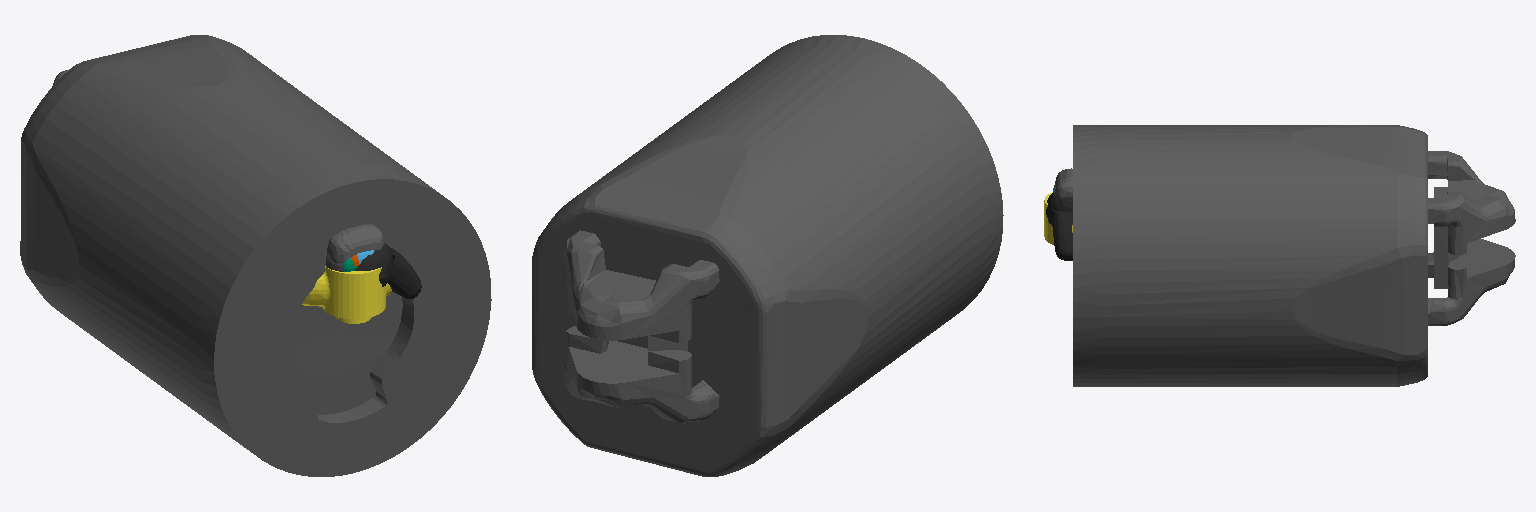
--- Render facts (derived) ---
3 views of the same robot in one strip: view 1: azimuth 30°, elevation 25°; view 2: azimuth 150°, elevation 25°; view 3: azimuth 270°, elevation 25° (orthographic).
Robot: kuka_allegro — 35 links, 34 joints (31 revolute, 3 fixed); root link iiwa7_base_link; default pose: all joints at 0.
Links seen in each view (by area): view 1: forearm, wrist, thdistal, mfmiddle; view 2: forearm; view 3: forearm, thdistal.
Boxes of the visible links, x1,y1,x2,y2 form: forearm: (20,35,491,476); wrist: (302,266,392,323); thdistal: (388,248,421,298); mfmiddle: (344,224,376,254); forearm: (532,35,1003,476); forearm: (1073,125,1515,386); thdistal: (1052,209,1072,260).
Bounding box of the posed robot: 1.35 × 2.42 × 1.35 m (x, y, z).
22 mesh visuals loaded from 18 distinct referenced files (9 OBJ); not drawn: 9 (reference not matched to a file when rendering).

robot.urdf — kuka_allegro:
<?xml version="1.0" ?>
<!-- This file was autogenerated but we have modified quite a bit
Authors: Karl, Ankur

Karl did the dynamics compensation and obtained the following values for the index finger

Noise: 0.111576
Masses: 0.005, 0.125164, 0.131691, 0.0211922,
Rotor Inertia: 0.00386572, 0.00346965, 0.00433775, 0.00366413,
Viscous Friction: 0.0414019, 0.00587541, 0.010638, 0.0226948,
Coulomb Friction: 0.0523963, 0.0150275, 0.00616359, 0.0227036,
Mass Inertia:
5.1458e-05, 5.1458e-05, 6.125e-05, 0, 0, 0,
6.39979e-06, 8.88687e-05, 9.13751e-05, -3.26531e-06, 1.23963e-05, 2.07384e-05,
7.04217e-05, 3.95744e-05, 6.61125e-05, -9.64342e-05, 5.8796e-05, -3.62996e-05,
2.93743e-05, 7.21391e-05, 7.59731e-05, -3.51896e-05, -6.31225e-05, -9.25392e-07,

Center of Mass:
0, 0, 0,
0.027, 0, 0,
0.038, 0, 0,
0.029, 0, 0,

-->

<robot name="kuka_allegro" xmlns:xacro="http://www.ros.org/wiki/xacro">
  <material name="Black">
    <color rgba="0.0 0.0 0.0 1.0"/>
  </material>
  <material name="Blue">
    <color rgba="0.0 0.0 0.8 1.0"/>
  </material>
  <material name="Green">
    <color rgba="0.0 0.8 0.0 1.0"/>
  </material>
  <material name="Grey">
    <color rgba="0.4 0.4 0.4 1.0"/>
  </material>
  <material name="Orange">
    <color rgba="1.0 0.423529411765 0.0392156862745 1.0"/>
  </material>
  <material name="Brown">
    <color rgba="0.870588235294 0.811764705882 0.764705882353 1.0"/>
  </material>
  <material name="Red">
    <color rgba="0.8 0.0 0.0 1.0"/>
  </material>
  <material name="White">
    <color rgba="1.0 1.0 1.0 1.0"/>
  </material>
  <link name="iiwa7_base_link"/>
  <!--joint between {parent} and link_0-->
  <joint name="iiwa7_base_link_iiwa7_joint" type="fixed">
    <origin rpy="0 0 0" xyz="0 0 0"/>
    <parent link="iiwa7_base_link"/>
    <child link="iiwa7_link_0"/>
  </joint>
  <link name="iiwa7_link_0">
    <inertial>
      <origin rpy="0 0 0" xyz="-0.1 0 0.07"/>
      <mass value="5"/>
      <inertia ixx="0.05" ixy="0" ixz="0" iyy="0.06" iyz="0" izz="0.03"/>
    </inertial>
    <visual>
      <origin rpy="0 0 0" xyz="0 0 0"/>
      <geometry>
        <mesh filename="kuka_allegro_description/meshes/iiwa7/visual/link_0.obj"/>
      </geometry>
      <material name="Grey"/>
    </visual>
    <collision>
      <origin rpy="0 0 0" xyz="0 0 0"/>
      <geometry>
        <mesh filename="kuka_allegro_description/meshes/iiwa7/collision/link_0.obj"/>
      </geometry>
      <material name="Grey"/>
    </collision>
    <self_collision_checking>
      <origin rpy="0 0 0" xyz="0 0 0"/>
      <geometry>
        <capsule length="0.25" radius="0.15"/>
      </geometry>
    </self_collision_checking>
  </link>
  <!-- joint between link_0 and link_1 -->
  <joint name="iiwa7_joint_1" type="revolute">
    <parent link="iiwa7_link_0"/>
    <child link="iiwa7_link_1"/>
    <origin rpy="0 0 0" xyz="0 0 0.15"/>
    <axis xyz="0 0 1"/>
    <limit effort="300" lower="-2.96705972839" upper="2.96705972839" velocity="10"/>
    <safety_controller k_position="100" k_velocity="2" soft_lower_limit="-2.93215314335" soft_upper_limit="2.93215314335"/>
    <dynamics damping="5.5" friction="0.025"/>
  </joint>
  <link name="iiwa7_link_1">
    <inertial>
      <origin rpy="0 0 0" xyz="0 -0.03 0.12"/>
      <mass value="3.4525"/>
      <inertia ixx="0.02183" ixy="0" ixz="0" iyy="0.007703" iyz="-0.003887" izz="0.02083"/>
    </inertial>
    <visual>
      <origin rpy="0 0 0" xyz="0 0 0.0075"/>
      <geometry>
        <mesh filename="kuka_allegro_description/meshes/iiwa7/visual/link_1.obj"/>
      </geometry>
      <material name="Orange"/>
    </visual>
    <collision>
      <origin rpy="0 0 0" xyz="0 0 0.0075"/>
      <geometry>
        <mesh filename="kuka_allegro_description/meshes/iiwa7/collision/link_1.obj"/>
      </geometry>
      <material name="Orange"/>
    </collision>
  </link>
  <joint name="iiwa7_joint_2" type="revolute">
    <parent link="iiwa7_link_1"/>
    <child link="iiwa7_link_2"/>
    <origin rpy="1.57079632679   0 3.14159265359" xyz="0 0 0.19"/>
    <axis xyz="0 0 1"/>
    <limit effort="300" lower="-2.09439510239" upper="2.09439510239" velocity="10"/>
    <safety_controller k_position="100" k_velocity="2" soft_lower_limit="-2.05948851735" soft_upper_limit="2.05948851735"/>
    <dynamics damping="5.55" friction="0.025"/>
  </joint>
  <link name="iiwa7_link_2">
    <inertial>
      <origin rpy="0 0 0" xyz="0.0003 0.059 0.042"/>
      <mass value="3.4821"/>
      <inertia ixx="0.02076" ixy="0" ixz="-0.003626" iyy="0.02179" iyz="0" izz="0.00779"/>
    </inertial>
    <visual>
      <origin rpy="0 0 0" xyz="0 0 0"/>
      <geometry>
        <mesh filename="kuka_allegro_description/meshes/iiwa7/visual/link_2.obj"/>
      </geometry>
      <material name="Orange"/>
    </visual>
    <collision>
      <origin rpy="0 0 0" xyz="0 0 0"/>
      <geometry>
        <mesh filename="kuka_allegro_description/meshes/iiwa7/collision/link_2.obj"/>
      </geometry>
      <material name="Orange"/>
    </collision>
  </link>
  <joint name="iiwa7_joint_3" type="revolute">
    <parent link="iiwa7_link_2"/>
    <child link="iiwa7_link_3"/>
    <origin rpy="1.57079632679 0 3.14159265359" xyz="0 0.21 0"/>
    <axis xyz="0 0 1"/>
    <limit effort="300" lower="-2.96705972839" upper="2.96705972839" velocity="10"/>
    <safety_controller k_position="100" k_velocity="2" soft_lower_limit="-2.93215314335" soft_upper_limit="2.93215314335"/>
    <dynamics damping="5.5" friction="0.025"/>
  </joint>
  <link name="iiwa7_link_3">
    <inertial>
      <origin rpy="0 0 0" xyz="0 0.03 0.13"/>
      <mass value="4.05623"/>
      <inertia ixx="0.03204" ixy="0" ixz="0" iyy="0.00972" iyz="0.006227" izz="0.03042"/>
    </inertial>
    <visual>
      <origin rpy="0 0 0" xyz="0 0 -0.026"/>
      <geometry>
        <mesh filename="kuka_allegro_description/meshes/iiwa7/visual/link_3.obj"/>
      </geometry>
      <material name="Orange"/>
    </visual>
    <collision>
      <origin rpy="0 0 0" xyz="0 0 -0.026"/>
      <geometry>
        <mesh filename="kuka_allegro_description/meshes/iiwa7/collision/link_3.obj"/>
      </geometry>
      <material name="Orange"/>
    </collision>
  </link>
  <joint name="iiwa7_joint_4" type="revolute">
    <parent link="iiwa7_link_3"/>
    <child link="iiwa7_link_4"/>
    <origin rpy="1.57079632679 0 0" xyz="0 0 0.19"/>
    <axis xyz="0 0 1"/>
    <limit effort="300" lower="-2.09439510239" upper="2.09439510239" velocity="10"/>
    <safety_controller k_position="100" k_velocity="2" soft_lower_limit="-2.05948851735" soft_upper_limit="2.05948851735"/>
    <dynamics damping="5.5" friction="0.025"/>
  </joint>
  <link name="iiwa7_link_4">
    <inertial>
      <origin rpy="0 0 0" xyz="0 0.067 0.034"/>
      <mass value="3.4822"/>
      <inertia ixx="0.02178" ixy="0" ixz="0" iyy="0.02075" iyz="-0.003625" izz="0.007785"/>
    </inertial>
    <visual>
      <origin rpy="0 0 0" xyz="0 0 0"/>
      <geometry>
        <mesh filename="kuka_allegro_description/meshes/iiwa7/visual/link_4.obj"/>
      </geometry>
      <material name="Orange"/>
    </visual>
    <collision>
      <origin rpy="0 0 0" xyz="0 0 0"/>
      <geometry>
        <mesh filename="kuka_allegro_description/meshes/iiwa7/collision/link_4.obj"/>
      </geometry>
      <material name="Orange"/>
    </collision>
  </link>
  <joint name="iiwa7_joint_5" type="revolute">
    <parent link="iiwa7_link_4"/>
    <child link="iiwa7_link_5"/>
    <origin rpy="-1.57079632679 3.14159265359 0" xyz="0 0.21 0"/>
    <axis xyz="0 0 1"/>
    <limit effort="300" lower="-2.96705972839" upper="2.96705972839" velocity="10"/>
    <safety_controller k_position="100" k_velocity="2" soft_lower_limit="-2.93215314335" soft_upper_limit="2.93215314335"/>
    <dynamics damping="5.5" friction="0.025"/>
  </joint>
  <link name="iiwa7_link_5">
    <inertial>
      <origin rpy="0 0 0" xyz="0.0001 0.021 0.076"/>
      <mass value="2.1633"/>
      <inertia ixx="0.01287" ixy="0" ixz="0" iyy="0.005708" iyz="-0.003946" izz="0.01112"/>
    </inertial>
    <visual>
      <origin rpy="0 0 0" xyz="0 0 -0.026"/>
      <geometry>
        <mesh filename="kuka_allegro_description/meshes/iiwa7/visual/link_5.obj"/>
      </geometry>
      <material name="Orange"/>
    </visual>
    <collision>
      <origin rpy="0 0 0" xyz="0 0 -0.026"/>
      <geometry>
        <mesh filename="kuka_allegro_description/meshes/iiwa7/collision/link_5.obj"/>
      </geometry>
      <material name="Orange"/>
    </collision>
  </link>
  <joint name="iiwa7_joint_6" type="revolute">
    <parent link="iiwa7_link_5"/>
    <child link="iiwa7_link_6"/>
    <origin rpy="1.57079632679 0 0" xyz="0 0.06070 0.19"/>
    <axis xyz="0 0 1"/>
    <limit effort="300" lower="-2.09439510239" upper="2.09439510239" velocity="10"/>
    <safety_controller k_position="100" k_velocity="2" soft_lower_limit="-2.05948851735" soft_upper_limit="2.05948851735"/>
    <dynamics damping="0.5" friction="0.025"/>
  </joint>
  <link name="iiwa7_link_6">
    <inertial>
      <origin rpy="0 0 0" xyz="0 0.0006 0.0004"/>
      <mass value="2.3466"/>
      <inertia ixx="0.006509" ixy="0" ixz="0" iyy="0.006259" iyz="0.00031891" izz="0.004527"/>
    </inertial>
    <visual>
      <origin rpy="0 0 0" xyz="0 0 0"/>
      <geometry>
        <mesh filename="kuka_allegro_description/meshes/iiwa7/visual/link_6.obj"/>
      </geometry>
      <material name="Orange"/>
    </visual>
    <collision>
      <origin rpy="0 0 0" xyz="0 0 0"/>
      <geometry>
        <mesh filename="kuka_allegro_description/meshes/iiwa7/collision/link_6.obj"/>
      </geometry>
      <material name="Orange"/>
    </collision>
  </link>
  <joint name="iiwa7_joint_7" type="revolute">
    <parent link="iiwa7_link_6"/>
    <child link="iiwa7_link_7"/>
    <origin rpy="-1.57079632679 3.14159265359 0" xyz="0 0.081 0.06070"/>
    <axis xyz="0 0 1"/>
    <limit effort="300" lower="-3.05432619099" upper="3.05432619099" velocity="10"/>
    <safety_controller k_position="100" k_velocity="2" soft_lower_limit="-3.01941960595" soft_upper_limit="3.01941960595"/>
    <dynamics damping="5.5" friction="0.025"/>
  </joint>
  <link name="iiwa7_link_7">
    <inertial>
      <origin rpy="0 0 0" xyz="0 0 0.02"/>
      <mass value="3.129"/>
      <inertia ixx="0.01464" ixy="0.0005912" ixz="0" iyy="0.01465" iyz="0" izz="0.002872"/>
    </inertial>
    <visual>
      <origin rpy="0 0 0" xyz="0 0 -0.0005"/>
      <geometry>
        <mesh filename="kuka_allegro_description/meshes/iiwa7/visual/link_7.obj"/>
      </geometry>
      <material name="Grey"/>
    </visual>
    <collision>
      <origin rpy="0 0 0" xyz="0 0 -0.0005"/>
      <geometry>
        <mesh filename="kuka_allegro_description/meshes/iiwa7/collision/link_7.obj"/>
      </geometry>
      <material name="Grey"/>
    </collision>
  </link>
  <joint name="iiwa7_joint_ee" type="fixed">
    <parent link="iiwa7_link_7"/>
    <child link="iiwa7_link_ee"/>
    <origin rpy="0 0 0" xyz="0 0 0.071"/>
    <dynamics damping="5.5" friction="0.025"/>
  </joint>
  <link name="iiwa7_link_ee">
    <inertial>
      <origin rpy="0 0 0" xyz="0 0 0.0"/>
      <mass value="0.1"/>
      <inertia ixx="1e-3" ixy="0.0" ixz="0" iyy="1e-3" iyz="0" izz="1e-3"/>
    </inertial>
  </link>
  
  <!-- Load Gazebo lib and set the robot namespace -->
  <!-- <gazebo>
      <plugin name="gazebo_ros_control" filename="libgazebo_ros_control.so">
        <robotNamespace>/${robot_name}</robotNamespace>
      </plugin>
    </gazebo> -->
  <!-- Link0 -->
  <gazebo reference="iiwa7_link_0">
    <material>Gazebo/Grey</material>
    <mu1>0.2</mu1>
    <mu2>0.2</mu2>
  </gazebo>
  <!-- Link1 -->
  <gazebo reference="iiwa7_link_1">
    <material>Gazebo/Orange</material>
    <mu1>0.2</mu1>
    <mu2>0.2</mu2>
  </gazebo>
  <!-- Link2 -->
  <gazebo reference="iiwa7_link_2">
    <material>Gazebo/Orange</material>
    <mu1>0.2</mu1>
    <mu2>0.2</mu2>
  </gazebo>
  <!-- Link3 -->
  <gazebo reference="iiwa7_link_3">
    <material>Gazebo/Orange</material>
    <mu1>0.2</mu1>
    <mu2>0.2</mu2>
  </gazebo>
  <!-- Link4 -->
  <gazebo reference="iiwa7_link_4">
    <material>Gazebo/Orange</material>
    <mu1>0.2</mu1>
    <mu2>0.2</mu2>
  </gazebo>
  <!-- Link5 -->
  <gazebo reference="iiwa7_link_5">
    <material>Gazebo/Orange</material>
    <mu1>0.2</mu1>
    <mu2>0.2</mu2>
  </gazebo>
  <!-- Link6 -->
  <gazebo reference="iiwa7_link_6">
    <material>Gazebo/Orange</material>
    <mu1>0.2</mu1>
    <mu2>0.2</mu2>
  </gazebo>
  <!-- Link7 -->
  <gazebo reference="iiwa7_link_7">
    <material>Gazebo/Grey</material>
    <mu1>0.2</mu1>
    <mu2>0.2</mu2>
  </gazebo>
  <transmission name="iiwa7_tran_1">
    <robotNamespace>/iiwa7</robotNamespace>
    <type>transmission_interface/SimpleTransmission</type>
    <joint name="iiwa7_joint_1">
      <hardwareInterface>PositionJointInterface</hardwareInterface>
    </joint>
    <actuator name="iiwa7_motor_1">
      <hardwareInterface>PositionJointInterface</hardwareInterface>
      <mechanicalReduction>1</mechanicalReduction>
    </actuator>
  </transmission>
  <transmission name="iiwa7_tran_2">
    <robotNamespace>/iiwa7</robotNamespace>
    <type>transmission_interface/SimpleTransmission</type>
    <joint name="iiwa7_joint_2">
      <hardwareInterface>PositionJointInterface</hardwareInterface>
    </joint>
    <actuator name="iiwa7_motor_2">
      <hardwareInterface>PositionJointInterface</hardwareInterface>
      <mechanicalReduction>1</mechanicalReduction>
    </actuator>
  </transmission>
  <transmission name="iiwa7_tran_3">
    <robotNamespace>/iiwa7</robotNamespace>
    <type>transmission_interface/SimpleTransmission</type>
    <joint name="iiwa7_joint_3">
      <hardwareInterface>PositionJointInterface</hardwareInterface>
    </joint>
    <actuator name="iiwa7_motor_3">
      <hardwareInterface>PositionJointInterface</hardwareInterface>
      <mechanicalReduction>1</mechanicalReduction>
    </actuator>
  </transmission>
  <transmission name="iiwa7_tran_4">
    <robotNamespace>/iiwa7</robotNamespace>
    <type>transmission_interface/SimpleTransmission</type>
    <joint name="iiwa7_joint_4">
      <hardwareInterface>PositionJointInterface</hardwareInterface>
    </joint>
    <actuator name="iiwa7_motor_4">
      <hardwareInterface>PositionJointInterface</hardwareInterface>
      <mechanicalReduction>1</mechanicalReduction>
    </actuator>
  </transmission>
  <transmission name="iiwa7_tran_5">
    <robotNamespace>/iiwa7</robotNamespace>
    <type>transmission_interface/SimpleTransmission</type>
    <joint name="iiwa7_joint_5">
      <hardwareInterface>PositionJointInterface</hardwareInterface>
    </joint>
    <actuator name="iiwa7_motor_5">
      <hardwareInterface>PositionJointInterface</hardwareInterface>
      <mechanicalReduction>1</mechanicalReduction>
    </actuator>
  </transmission>
  <transmission name="iiwa7_tran_6">
    <robotNamespace>/iiwa7</robotNamespace>
    <type>transmission_interface/SimpleTransmission</type>
    <joint name="iiwa7_joint_6">
      <hardwareInterface>PositionJointInterface</hardwareInterface>
    </joint>
    <actuator name="iiwa7_motor_6">
      <hardwareInterface>PositionJointInterface</hardwareInterface>
      <mechanicalReduction>1</mechanicalReduction>
    </actuator>
  </transmission>
  <transmission name="iiwa7_tran_7">
    <robotNamespace>/iiwa7</robotNamespace>
    <type>transmission_interface/SimpleTransmission</type>
    <joint name="iiwa7_joint_7">
      <hardwareInterface>PositionJointInterface</hardwareInterface>
    </joint>
    <actuator name="iiwa7_motor_7">
      <hardwareInterface>PositionJointInterface</hardwareInterface>
      <mechanicalReduction>1</mechanicalReduction>
    </actuator>
  </transmission>
  <!-- ======================== BASE PARAMS ========================= -->
  <!-- ======================== FINGER PARAMS ======================== -->
  <!-- full height from joint to tip. when used,
       the radius of the finger tip sphere will be subtracted
       and one fixed link will be added for the tip. -->
  <!-- ========================= THUMB PARAMS ========================= -->
  <!-- ========================= LIMITS ========================= -->
  <!-- ============================================================================= -->
  <!-- BASE -->

  <link name="forearm">
    <inertial>
      <origin rpy="0 0 0" xyz="0 0 0.09" />
      <mass value="3.0" />
      <inertia ixx="1.0" ixy="0.0" ixz="0.0" iyy="1.0" iyz="0.0" izz="1.0" />
    </inertial>
    <visual>
      <origin rpy="0 0 0" xyz="0 0 0" />
      <geometry name="shadow_forearm_geom">
        <mesh filename="meshes/forearm.obj"/>
      </geometry>
      <material name="Grey" />
    </visual>
    <collision>
      <origin rpy="0 0 0" xyz="0 0 0.09" />
      <geometry name="shadow_forearm_collision">
        <cylinder length="0.180" radius="0.06" />
      </geometry>
    </collision>
  </link>
  <link name="wrist">
    <inertial>
      <origin rpy="0 0 0" xyz="0 0.0 0.0" />

      <mass value="0.1" />
      <inertia ixx="0.120" ixy="0.0" ixz="0.0" iyy="0.148" iyz="0.0" izz="0.0438" />
    </inertial>
    <visual>
      <origin rpy="0 0 0" xyz="0 0 0" />
      <geometry name="wrist_visual">
        <mesh filename="meshes/wrist.obj"/>
      </geometry>
      <material name="LightGrey" />
    </visual>
    <collision>
      <origin rpy="0 0 0" xyz="0 0 0" />
      <geometry name="wrist_collision_geom">
        <box size="0.02 0.02 0.02" />
      </geometry>
    </collision>
  </link>
  <joint name="WRJ2" type="revolute">
    <parent link="forearm" />
    <child link="wrist" />

    <origin rpy="0 0 0" xyz="0 -0.010 0.213" />
    <axis xyz="0 1 0" />
    <limit effort="5" lower="-0.52359877559829882" upper="0.17453292519943295" velocity="1.0" />
    <dynamics damping="100.5" />
  </joint>
  <link name="palm">
    <inertial>
      <origin rpy="0 0 0" xyz="0 0 0.035" />
      <mass value="0.3" />
      <inertia ixx="0.5" ixy="0.0" ixz="0.0" iyy="0.5" iyz="0.0" izz="0.3" />
    </inertial>
    <visual>
      <origin rpy="0 0 0" xyz="0 0 0" />
      <geometry name="palm_visual">
        <mesh filename="meshes/palm.obj"/>
      </geometry>
      <material name="Grey" />
    </visual>
    <collision>
      <origin rpy="0 0 0" xyz="0.005 0 0.035" />
      <geometry name="palm_collision_geom">
        <box size="0.05 0.02 0.07" />
      </geometry>
    </collision>
  </link>
  <joint name="WRJ1" type="revolute">
    <parent link="wrist" />
    <child link="palm" />
    <origin rpy="0 0 0" xyz="0 0 0.034" />
    <axis xyz="1 0 0" />
    <limit effort="5" lower="-0.78539816339744828" upper="0.6108652381980153" velocity="1.0" />
    <dynamics damping="100.5" />
  </joint>
  <link name="ffknuckle">
    <inertial>
      <origin rpy="0 0 0" xyz="0 0 0" />

      <mass value="0.008" />
      <inertia ixx="0.0" ixy="0.0" ixz="0.0" iyy="0.1" iyz="0.0" izz="0.0" />
    </inertial>
    <visual>
      <origin rpy="0 0 0" xyz="0 0 0.0005" />
      <geometry name="knuckle_visual">
        <mesh filename="meshes/knuckle.obj"/>
      </geometry>
      <material name="LightGrey" />
    </visual>
    <collision>
      <origin rpy="0 0 0" xyz="0 0 0" />
      <geometry name="knuckle_collision_geom">
        <box size="0.005 0.005 0.005" />
      </geometry>
    </collision>
  </link>
  <joint name="FFJ4" type="revolute">
    <parent link="palm" />
    <child link="ffknuckle" />

    <origin rpy="0 0 0" xyz="0.033 0 0.095" />
    <axis xyz="0 -1 0" />
    <limit effort="100" lower="-0.43633231299858238" upper="0.43633231299858238" velocity="1.0" />
    <dynamics damping="50.5" />
  </joint>
  <link name="ffproximal">
    <inertial>
      <mass value="0.014" />
      <origin xyz="0 0 0.0225" />
      <inertia ixx="0.1" ixy="0.0" ixz="0.0" iyy="0.1" iyz="0.0" izz="0.0" />
    </inertial>
    <visual>
      <origin rpy="0 0 0" xyz="0 0 0" />
      <geometry name="proximal_visual">
        <mesh filename="meshes/F3.obj"/>
      </geometry>
      <material name="Grey" />
    </visual>
    <collision>
      <origin rpy="0 0 0 " xyz="0 0 0.025" />
      <geometry name="proximal_collision_geom">
        <box size="0.008 0.008 0.04" />
      </geometry>
    </collision>
  </link>
  <joint name="FFJ3" type="revolute">
    <parent link="ffknuckle" />
    <child link="ffproximal" />
    <origin rpy="0 0 0" xyz="0 0 0" />
    <axis xyz="1 0 0" />
    <limit effort="100" lower="0" upper="1.57079632679" velocity="1.0" />
    <dynamics damping="50.5" />
  </joint>
  <link name="ffmiddle">
    <inertial>
      <origin rpy="0 0 0" xyz="0 0 0.0125" />
      <mass value="0.012" />
      <inertia ixx="0.1" ixy="0.0" ixz="0.0" iyy="0.1" iyz="0.0" izz="0.0" />
    </inertial>
    <visual>
      <origin rpy="0 0 0" xyz="0 0 0" />
      <geometry name="middle_visual">
        <mesh filename="meshes/F2.obj"/>
      </geometry>
      <material name="Grey" />
    </visual>
    <collision>
      <origin rpy="0 0 0" xyz="0 0 0.0125" />
      <geometry name="middle_collision_geom">
        <box size="0.008 0.008 0.015" />
      </geometry>
    </collision>
  </link>
  <joint name="FFJ2" type="revolute">
    <parent link="ffproximal" />
    <child link="ffmiddle" />
    <origin rpy="0 0 0" xyz="0 0 0.045" />
    <axis xyz="1 0 0" />
    <limit effort="100" lower="0" upper="1.57079632679" velocity="1.0" />
    <dynamics damping="50.5" />
  </joint>
  <link name="ffdistal">
    <inertial>
      <mass value="0.010" />
      <origin xyz="0 0 0.013" />
      <inertia ixx="0.1" ixy="0.0" ixz="0.0" iyy="0.1" iyz="0.0" izz="0.0" />
    </inertial>
    <visual>
      <origin rpy="0 0 0" xyz="0 0 0" />
      <geometry name="distal_visual">
        <mesh filename="meshes/F1.obj"/>
      </geometry>
      <material name="Grey" />
    </visual>

    <collision>
      <origin rpy="0 0 0" xyz="0 0 0" />
      <geometry name="distal_collision_geom">
        <mesh filename="meshes/F1.obj"/>
      </geometry>
    </collision>
  </link>
  <joint name="FFJ1" type="revolute">
    <parent link="ffmiddle" />
    <child link="ffdistal" />
    <origin rpy="0 0 0" xyz="0 0 0.025" />
    <axis xyz="1 0 0" />
    <limit effort="100" lower="0" upper="1.57079632679" velocity="1.0" />
    <dynamics damping="50.5" />
  </joint>
  <link name="mfknuckle">
    <inertial>
      <origin rpy="0 0 0" xyz="0 0 0" />

      <mass value="0.008" />
      <inertia ixx="0.0" ixy="0.0" ixz="0.0" iyy="0.1" iyz="0.0" izz="0.0" />
    </inertial>
    <visual>
      <origin rpy="0 0 0" xyz="0 0 0.0005" />
      <geometry name="knuckle_visual">
        <mesh filename="meshes/knuckle.obj"/>
      </geometry>
      <material name="LightGrey" />
    </visual>
    <collision>
      <origin rpy="0 0 0" xyz="0 0 0" />
      <geometry name="knuckle_collision_geom">
        <box size="0.005 0.005 0.005" />
      </geometry>
    </collision>
  </link>
  <joint name="MFJ4" type="revolute">
    <parent link="palm" />
    <child link="mfknuckle" />

    <origin rpy="0 0 0" xyz="0.011 0 0.099" />
    <axis xyz="0 -1 0" />
    <limit effort="100" lower="-0.43633231299858238" upper="0.43633231299858238" velocity="1.0" />
    <dynamics damping="50.5" />
  </joint>
  <link name="mfproximal">
    <inertial>
      <mass value="0.014" />
      <origin xyz="0 0 0.0225" />
      <inertia ixx="0.1" ixy="0.0" ixz="0.0" iyy="0.1" iyz="0.0" izz="0.0" />
    </inertial>
    <visual>
      <origin rpy="0 0 0" xyz="0 0 0" />
      <geometry name="proximal_visual">
        <mesh filename="meshes/F3.obj"/>
      </geometry>
      <material name="Grey" />
    </visual>
    <collision>
      <origin rpy="0 0 0 " xyz="0 0 0.025" />
      <geometry name="proximal_collision_geom">
        <box size="0.008 0.008 0.04" />
      </geometry>
    </collision>
  </link>
  <joint name="MFJ3" type="revolute">
    <parent link="mfknuckle" />
    <child link="mfproximal" />
    <origin rpy="0 0 0" xyz="0 0 0" />
    <axis xyz="1 0 0" />
    <limit effort="100" lower="0" upper="1.57079632679" velocity="1.0" />
    <dynamics damping="50.5" />
  </joint>
  <link name="mfmiddle">
    <inertial>
      <origin rpy="0 0 0" xyz="0 0 0.0125" />
      <mass value="0.012" />
      <inertia ixx="0.1" ixy="0.0" ixz="0.0" iyy="0.1" iyz="0.0" izz="0.0" />
    </inertial>
    <visual>
      <origin rpy="0 0 0" xyz="0 0 0" />
      <geometry name="middle_visual">
        <mesh filename="meshes/F2.obj"/>
      </geometry>
      <material name="Grey" />
    </visual>
    <collision>
      <origin rpy="0 0 0" xyz="0 0 0.0125" />
      <geometry name="middle_collision_geom">
        <box size="0.008 0.008 0.015" />
      </geometry>
    </collision>
  </link>
  <joint name="MFJ2" type="revolute">
    <parent link="mfproximal" />
    <child link="mfmiddle" />
    <origin rpy="0 0 0" xyz="0 0 0.045" />
    <axis xyz="1 0 0" />
    <limit effort="100" lower="0" upper="1.57079632679" velocity="1.0" />
    <dynamics damping="50.5" />
  </joint>
  <link name="mfdistal">
    <inertial>
      <mass value="0.010" />
      <origin xyz="0 0 0.013" />
      <inertia ixx="0.1" ixy="0.0" ixz="0.0" iyy="0.1" iyz="0.0" izz="0.0" />
    </inertial>
    <visual>
      <origin rpy="0 0 0" xyz="0 0 0" />
      <geometry name="distal_visual">
        <mesh filename="meshes/F1.obj"/>
      </geometry>
      <material name="Grey" />
    </visual>

    <collision>
      <origin rpy="0 0 0" xyz="0 0 0" />
      <geometry name="distal_collision_geom">
        <mesh filename="meshes/F1.obj"/>
      </geometry>
    </collision>
  </link>
  <joint name="MFJ1" type="revolute">
    <parent link="mfmiddle" />
    <child link="mfdistal" />
    <origin rpy="0 0 0" xyz="0 0 0.025" />
    <axis xyz="1 0 0" />
    <limit effort="100" lower="0" upper="1.57079632679" velocity="1.0" />
    <dynamics damping="50.5" />
  </joint>
  <link name="rfknuckle">
    <inertial>
      <origin rpy="0 0 0" xyz="0 0 0" />

      <mass value="0.008" />
      <inertia ixx="0.0" ixy="0.0" ixz="0.0" iyy="0.1" iyz="0.0" izz="0.0" />
    </inertial>
    <visual>
      <origin rpy="0 0 0" xyz="0 0 0.0005" />
      <geometry name="knuckle_visual">
        <mesh filename="meshes/knuckle.obj"/>
      </geometry>
      <material name="LightGrey" />
    </visual>
    <collision>
      <origin rpy="0 0 0" xyz="0 0 0" />
      <geometry name="knuckle_collision_geom">
        <box size="0.005 0.005 0.005" />
      </geometry>
    </collision>
  </link>
  <joint name="RFJ4" type="revolute">
    <parent link="palm" />
    <child link="rfknuckle" />

    <origin rpy="0 0 0" xyz="-0.011 0 0.095" />
    <axis xyz="0 1 0" />
    <limit effort="100" lower="-0.43633231299858238" upper="0.43633231299858238" velocity="1.0" />
    <dynamics damping="50.5" />
  </joint>
  <link name="rfproximal">
    <inertial>
      <mass value="0.014" />
      <origin xyz="0 0 0.0225" />
      <inertia ixx="0.1" ixy="0.0" ixz="0.0" iyy="0.1" iyz="0.0" izz="0.0" />
    </inertial>
    <visual>
      <origin rpy="0 0 0" xyz="0 0 0" />
      <geometry name="proximal_visual">
        <mesh filename="meshes/F3.obj"/>
      </geometry>
      <material name="Grey" />
    </visual>
    <collision>
      <origin rpy="0 0 0 " xyz="0 0 0.025" />
      <geometry name="proximal_collision_geom">
        <box size="0.008 0.008 0.04" />
      </geometry>
    </collision>
  </link>
  <joint name="RFJ3" type="revolute">
    <parent link="rfknuckle" />
    <child link="rfproximal" />
    <origin rpy="0 0 0" xyz="0 0 0" />
    <axis xyz="1 0 0" />
    <limit effort="100" lower="0" upper="1.57079632679" velocity="1.0" />
    <dynamics damping="50.5" />
  </joint>
  <link name="rfmiddle">
    <inertial>
      <origin rpy="0 0 0" xyz="0 0 0.0125" />
      <mass value="0.012" />
      <inertia ixx="0.1" ixy="0.0" ixz="0.0" iyy="0.1" iyz="0.0" izz="0.0" />
    </inertial>
    <visual>
      <origin rpy="0 0 0" xyz="0 0 0" />
      <geometry name="middle_visual">
        <mesh filename="meshes/F2.obj"/>
      </geometry>
      <material name="Grey" />
    </visual>
    <collision>
      <origin rpy="0 0 0" xyz="0 0 0.0125" />
      <geometry name="middle_collision_geom">
        <box size="0.008 0.008 0.015" />
      </geometry>
    </collision>
  </link>
  <joint name="RFJ2" type="revolute">
    <parent link="rfproximal" />
    <child link="rfmiddle" />
    <origin rpy="0 0 0" xyz="0 0 0.045" />
    <axis xyz="1 0 0" />
    <limit effort="100" lower="0" upper="1.57079632679" velocity="1.0" />
    <dynamics damping="50.5" />
  </joint>
  <link name="rfdistal">
    <inertial>
      <mass value="0.010" />
      <origin xyz="0 0 0.013" />
      <inertia ixx="0.1" ixy="0.0" ixz="0.0" iyy="0.1" iyz="0.0" izz="0.0" />
    </inertial>
    <visual>
      <origin rpy="0 0 0" xyz="0 0 0" />
      <geometry name="distal_visual">
        <mesh filename="meshes/F1.obj"/>
      </geometry>
      <material name="Grey" />
    </visual>

    <collision>
      <origin rpy="0 0 0" xyz="0 0 0" />
      <geometry name="distal_collision_geom">
        <mesh filename="meshes/F1.obj"/>
      </geometry>
    </collision>
  </link>
  <joint name="RFJ1" type="revolute">
    <parent link="rfmiddle" />
    <child link="rfdistal" />
    <origin rpy="0 0 0" xyz="0 0 0.025" />
    <axis xyz="1 0 0" />
    <limit effort="100" lower="0" upper="1.57079632679" velocity="1.0" />
    <dynamics damping="50.5" />
  </joint>
  <link name="lfmetacarpal">
    <inertial>
      <origin rpy="0 0 0" xyz="0 0 0.04" />
      <mass value="0.075" />
      <inertia ixx="0.1" ixy="0.0" ixz="0.0" iyy="0.1" iyz="0.0" izz="0.1" />
    </inertial>
    <visual>
      <origin rpy="0 0 0" xyz="0 0 0" />
      <geometry name="lfmetacarpal_visual">
        <mesh filename="meshes/lfmetacarpal.obj"/>
      </geometry>
      <material name="Grey" />
    </visual>
    <collision>
      <origin rpy="0 0 0" xyz="0 0 0.04" />
      <geometry name="lfmetacarpal_collision_geom">
        <box size="0.008 0.008 0.03" />
      </geometry>
    </collision>
  </link>
  <joint name="LFJ5" type="revolute">
    <parent link="palm" />
    <child link="lfmetacarpal" />
    <origin rpy="0 0 0" xyz="-0.033 0 0.02071" />
    <axis xyz="0.573576436 0 0.819152044" />
    <limit effort="100" lower="0" upper="0.69813170079773179" velocity="1.0" />
    <dynamics damping="50.5" />
  </joint>
  <link name="lfknuckle">
    <inertial>
      <origin rpy="0 0 0" xyz="0 0 0.06579" />
      <mass value="0.008" />
      <inertia ixx="0.1" ixy="0.0" ixz="0.0" iyy="0.1" iyz="0.0" izz="0.1" />
    </inertial>
    <visual>
      <origin rpy="0 0 0" xyz="0 0 0" />
      <geometry name="knuckle_visual">
        <mesh filename="meshes/knuckle.obj"/>
      </geometry>
      <material name="LightGrey" />
    </visual>
    <collision>
      <origin rpy="0 0 0" xyz="0 0 0" />
      <geometry name="knuckle_collision_geom">
        <box size="0.005 0.005 0.005" />
      </geometry>
    </collision>
  </link>
  <joint name="LFJ4" type="revolute">
    <parent link="lfmetacarpal" />
    <child link="lfknuckle" />
    <origin rpy="0 0 0" xyz="0 0 0.06579" />
    <axis xyz="0 1 0" />
    <limit effort="100" lower="-0.43633231299858238" upper="0.43633231299858238" velocity="1.0" />
    <dynamics damping="50.5" />
  </joint>
  <link name="lfproximal">
    <inertial>
      <mass value="0.014" />
      <origin xyz="0 0 0.0225" />
      <inertia ixx="0.1" ixy="0.0" ixz="0.0" iyy="0.1" iyz="0.0" izz="0.0" />
    </inertial>
    <visual>
      <origin rpy="0 0 0" xyz="0 0 0" />
      <geometry name="proximal_visual">
        <mesh filename="meshes/F3.obj"/>
      </geometry>
      <material name="Grey" />
    </visual>
    <collision>
      <origin rpy="0 0 0 " xyz="0 0 0.025" />
      <geometry name="proximal_collision_geom">
        <box size="0.008 0.008 0.04" />
      </geometry>
    </collision>
  </link>
  <joint name="LFJ3" type="revolute">
    <parent link="lfknuckle" />
    <child link="lfproximal" />
    <origin rpy="0 0 0" xyz="0 0 0" />
    <axis xyz="1 0 0" />
    <limit effort="100" lower="0" upper="1.57079632679" velocity="1.0" />
    <dynamics damping="50.5" />
  </joint>
  <link name="lfmiddle">
    <inertial>
      <origin rpy="0 0 0" xyz="0 0 0.0125" />
      <mass value="0.012" />
      <inertia ixx="0.1" ixy="0.0" ixz="0.0" iyy="0.1" iyz="0.0" izz="0.0" />
    </inertial>
    <visual>
      <origin rpy="0 0 0" xyz="0 0 0" />
      <geometry name="middle_visual">
        <mesh filename="meshes/F2.obj"/>
      </geometry>
      <material name="Grey" />
    </visual>
    <collision>
      <origin rpy="0 0 0" xyz="0 0 0.0125" />
      <geometry name="middle_collision_geom">
        <box size="0.008 0.008 0.015" />
      </geometry>
    </collision>
  </link>
  <joint name="LFJ2" type="revolute">
    <parent link="lfproximal" />
    <child link="lfmiddle" />
    <origin rpy="0 0 0" xyz="0 0 0.045" />
    <axis xyz="1 0 0" />
    <limit effort="100" lower="0" upper="1.57079632679" velocity="1.0" />
    <dynamics damping="50.5" />
  </joint>
  <link name="lfdistal">
    <inertial>
      <mass value="0.010" />
      <origin xyz="0 0 0.013" />
      <inertia ixx="0.1" ixy="0.0" ixz="0.0" iyy="0.1" iyz="0.0" izz="0.0" />
    </inertial>
    <visual>
      <origin rpy="0 0 0" xyz="0 0 0" />
      <geometry name="distal_visual">
        <mesh filename="meshes/F1.obj"/>
      </geometry>
      <material name="Grey" />
    </visual>

    <collision>
      <origin rpy="0 0 0" xyz="0 0 0" />
      <geometry name="distal_collision_geom">
        <mesh filename="meshes/F1.obj"/>
      </geometry>
    </collision>
  </link>
  <joint name="LFJ1" type="revolute">
    <parent link="lfmiddle" />
    <child link="lfdistal" />
    <origin rpy="0 0 0" xyz="0 0 0.025" />
    <axis xyz="1 0 0" />
    <limit effort="100" lower="0" upper="1.57079632679" velocity="1.0" />
    <dynamics damping="50.5" />
  </joint>
  <link name="thbase">
    <inertial>
      <mass value="0.010" />
      <origin rpy="0 0 0" xyz="0 0 0" />
      <inertia ixx="0.0" ixy="0.0" ixz="0.0" iyy="0.0" iyz="0.0" izz="0.1" />
    </inertial>
    <visual>
      <origin rpy="0 0 0" xyz="0 0 0" />
      <geometry name="thbase_visual">
        <box size="0.001 0.001 0.001" />
      </geometry>
      <material name="shadow_thbase_material">
        <color rgba="0.5 0.5 0.5 1.0" />
      </material>
    </visual>
    <collision>
      <origin rpy="0 0 0 " xyz="0 0 0" />
      <geometry name="thbase_collision_geom">
        <box size="0.001 0.001 0.001" />
      </geometry>
    </collision>
  </link>
  <joint name="THJ5" type="revolute">
    <parent link="palm" />
    <child link="thbase" />
    <origin rpy="0 0.785398163397 0" xyz="0.034 -0.0085 0.029" />
    <axis xyz="0 0 -1.0" />
    <limit effort="100" lower="-1.047" upper="1.047" velocity="1.0" />
    <dynamics damping="50.5" />
  </joint>
  <link name="thproximal">
    <inertial>
      <mass value="0.016" />
      <origin rpy="0 0 0" xyz="0 0 0.019" />
      <inertia ixx="0.1" ixy="0.0" ixz="0.0" iyy="0.1" iyz="0.0" izz="0.1" />
    </inertial>
    <visual>
      <origin rpy="0 0 0" xyz="0 0 0" />
      <geometry name="thproximal_visual">
        <mesh filename="meshes/TH3_z.obj"/>
      </geometry>
      <material name="shadow_thproximal_material">
        <color rgba="0.2 0.2 0.2 1.0" />
      </material>
    </visual>
    <collision>
      <origin rpy="0 0 0" xyz="0 0 0.019" />
      <geometry name="thproximal_collision_geom">
        <box size="0.008 0.008 0.020" />
      </geometry>
    </collision>
  </link>
  <joint name="THJ4" type="revolute">
    <parent link="thbase" />
    <child link="thproximal" />
    <origin rpy="0 0 0" xyz="0 0 0" />
    <axis xyz="1.0 0 0" />
    <limit effort="100" lower="0" upper="1.309" velocity="1.0" />
    <dynamics damping="50.5" />
  </joint>
  <link name="thhub">
    <inertial>
      <mass value="0.002" />
      <origin rpy="0 0 0" xyz="0 0 0" />
      <inertia ixx="0.1" ixy="0.0" ixz="0.0" iyy="0.1" iyz="0.0" izz="0.1" />
    </inertial>
    <visual>
      <origin rpy="0 0 0" xyz="0 0 0" />
      <geometry name="thhub_visual">
        <box size="0.001 0.001 0.001" />
      </geometry>
      <material name="shadow_thhub_material">
        <color rgba="0.7 0.7 0.7 1.0" />
      </material>
    </visual>
    <collision>
      <origin rpy="0 0 0 " xyz="0 0 0" />
      <geometry name="thhub_collision_geom">
        <box size="0.001 0.001 0.001" />
      </geometry>
    </collision>
  </link>
  <joint name="THJ3" type="revolute">
    <parent link="thproximal" />
    <child link="thhub" />
    <origin rpy="0 0 0" xyz="0 0 0.038" />
    <axis xyz="1 0 0" />
    <limit effort="100" lower="-0.2618" upper="0.2618" velocity="1.0" />
    <dynamics damping="50.5" />
  </joint>
  <link name="thmiddle">
    <inertial>
      <mass value="0.016" />
      <origin rpy="0 0 0" xyz="0 0 0.016" />
      <inertia ixx="0.1" ixy="0.0" ixz="0.0" iyy="0.1" iyz="0.0" izz="0.1" />
    </inertial>
    <visual>
      <origin rpy="0 0 0" xyz="0 0 0" />
      <geometry name="thmiddle_visual">
        <mesh filename="meshes/TH2_z.obj"/>
      </geometry>
      <material name="shadow_thmiddle_material">
        <color rgba="0.2 0.2 0.2 1.0" />
      </material>
    </visual>
    <collision>
      <origin rpy="0 0 0 " xyz="0 0 0.016" />
      <geometry name="thmiddle_collision_geom">
        <box size="0.008 0.008 0.015" />
      </geometry>
    </collision>
  </link>
  <joint name="THJ2" type="revolute">
    <parent link="thhub" />
    <child link="thmiddle" />
    <origin rpy="0 0 0" xyz="0 0 0" />
    <axis xyz="0 -1 0" />
    <limit effort="100" lower="-0.5237" upper="0.5237" velocity="1.0" />
    <dynamics damping="50.5" />
  </joint>
  <link name="thdistal">
    <inertial>
      <mass value="0.016" />
      <origin rpy="0 0 0" xyz="0 0 0.01375" />
      <inertia ixx="0.1" ixy="0.0" ixz="0.0" iyy="0.1" iyz="0.0" izz="0.1" />
    </inertial>
    <visual>
      <origin rpy="0 0 0" xyz="0 0.002 0.0025" />
      <geometry name="thdistal_visual">
        <mesh filename="meshes/F1.obj"/>
      </geometry>
      <material name="shadow_thmiddle_material">
        <color rgba="0.2 0.2 0.2 1.0" />
      </material>
    </visual>
    <collision>
      <origin rpy="0 0 0 " xyz="0 0.002 0.0025" />
      <geometry name="thmiddle_collision_geom">
        <mesh filename="meshes/F1.obj"/>
      </geometry>
    </collision>
  </link>
  <joint name="THJ1" type="revolute">
    <parent link="thmiddle" />
    <child link="thdistal" />
    <origin rpy="0 0 -1.570796327" xyz="0 0 0.032" />
    <axis xyz="1 0 0" />
    <limit effort="100" lower="0" upper="1.571" velocity="1.0" />
    <dynamics damping="50.5" />
  </joint>
  <!-- ============================================================================= -->

  <!-- Create a different *root* for the allegro hand -->
  <!-- Note: this offset is just eyeballed... -->
  <joint name="iiwa7_allegro" type="fixed">
    <parent link="iiwa7_link_ee"/>
    <child link="forearm"/>
    <origin rpy="0 0 0" xyz="0 0 0"/>
  </joint>
  
</robot>
